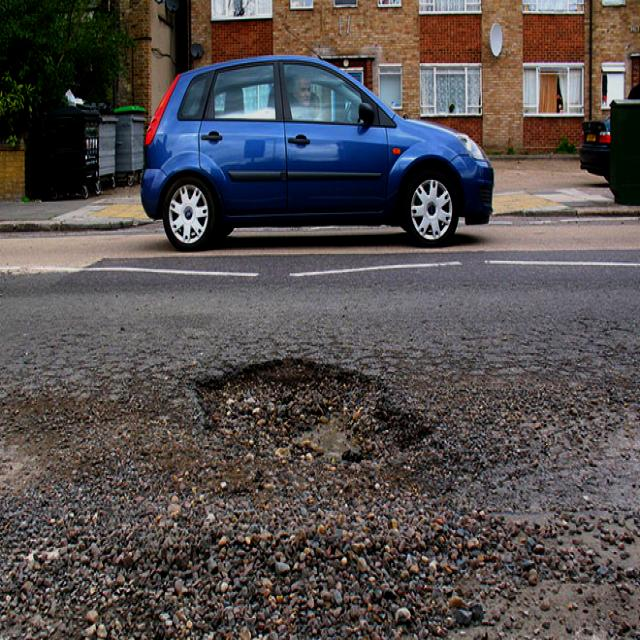Pothole: (162, 332, 444, 495)
